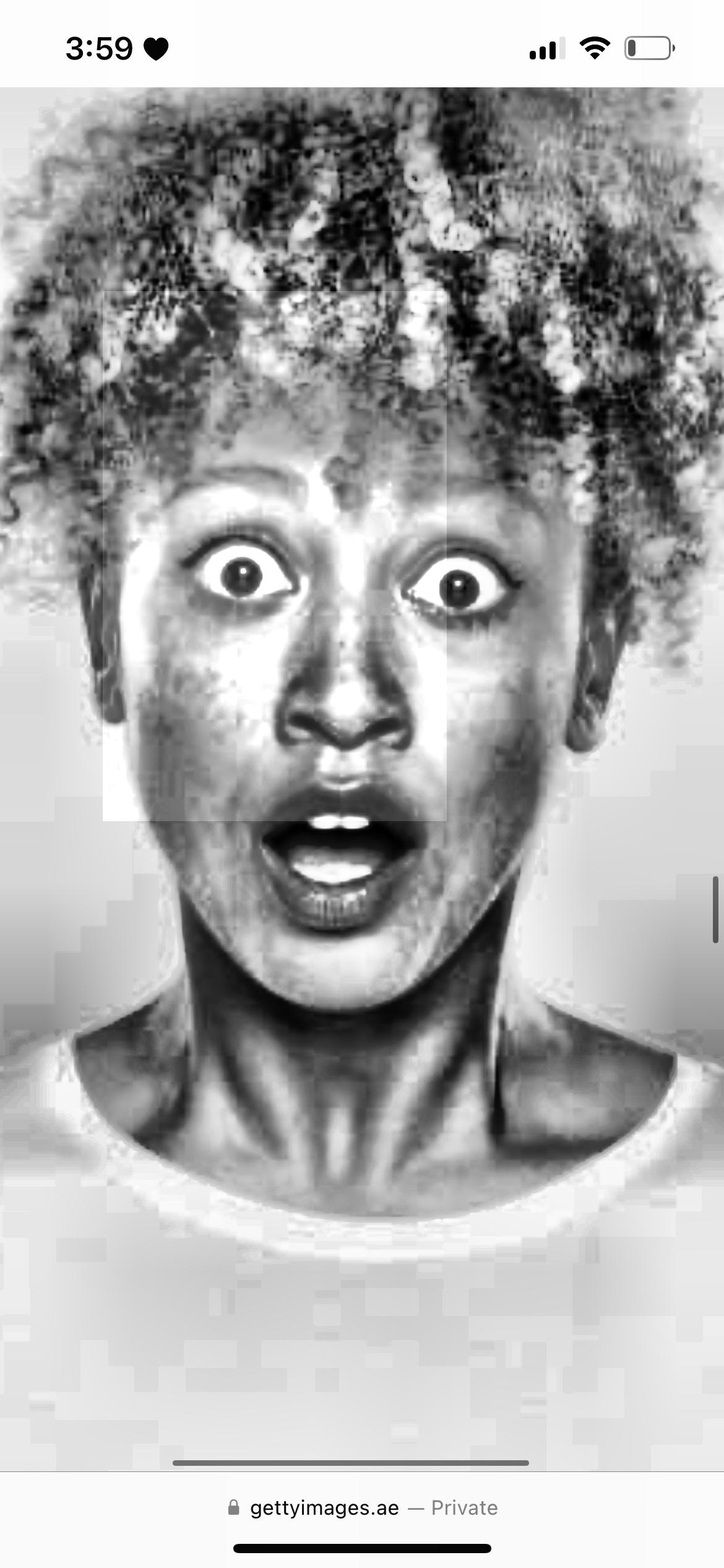surprised: (127, 360, 553, 1015)
